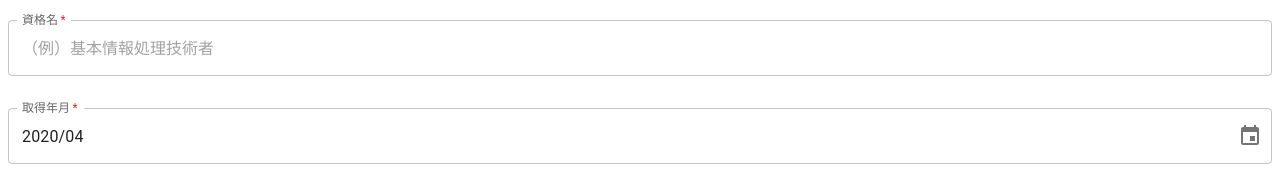
Test: CertificationSection › 候補から資格名を選ぶと、選ばれている資格に反映すること
What coordinates should you click on to do the following:
click the dropdown labelled "資格名 *"
I would click on:
 (625, 48)
Its box is [17,29,1233,67].
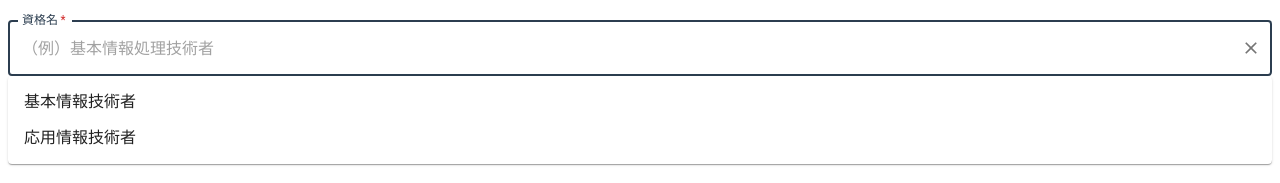
What coordinates should you click on to do the following:
click the option "応用情報技術者"
I would click on:
 (80, 138)
Its box is [24,128,136,147].
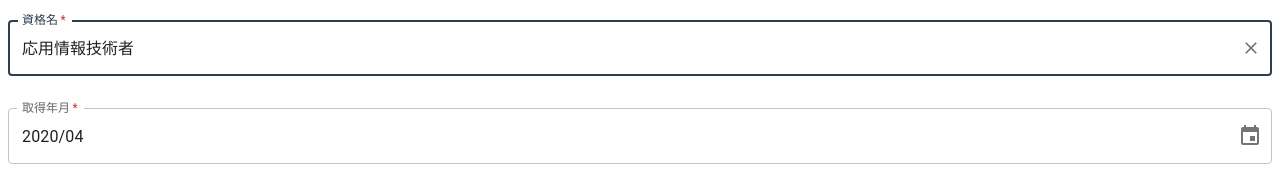
Now the dropdown labelled "資格名 *" holds "応用情報技術者", box [17,29,1233,67]
